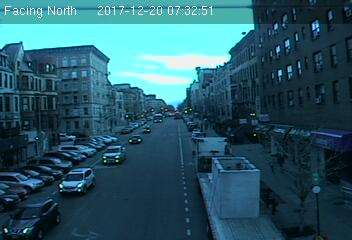car: (1, 194, 61, 240), (59, 167, 95, 195), (101, 145, 128, 164), (128, 134, 142, 144)
truck: (195, 137, 285, 239)
